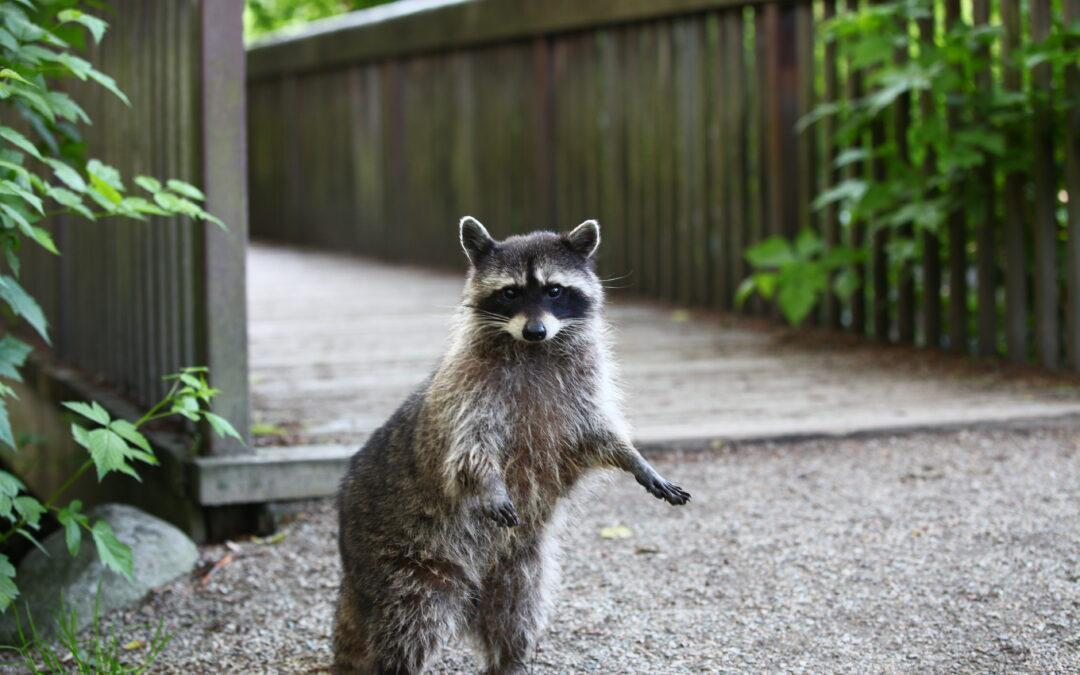raccoon: (324, 216, 688, 675)
